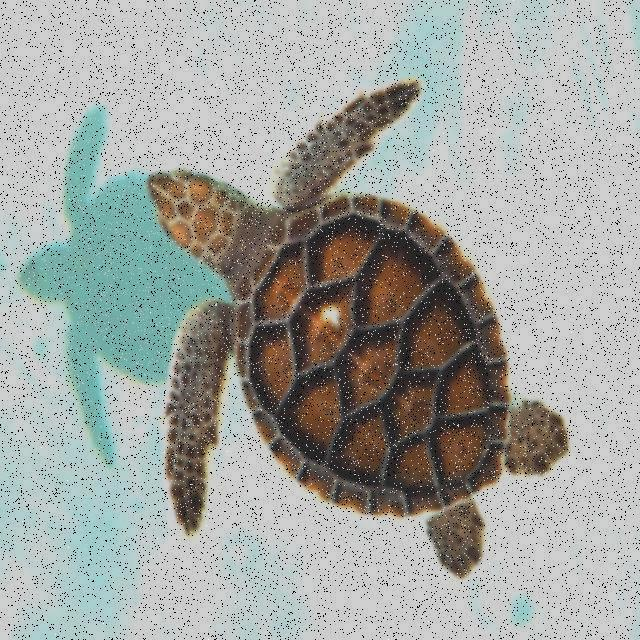tortoise: (143, 71, 582, 594)
